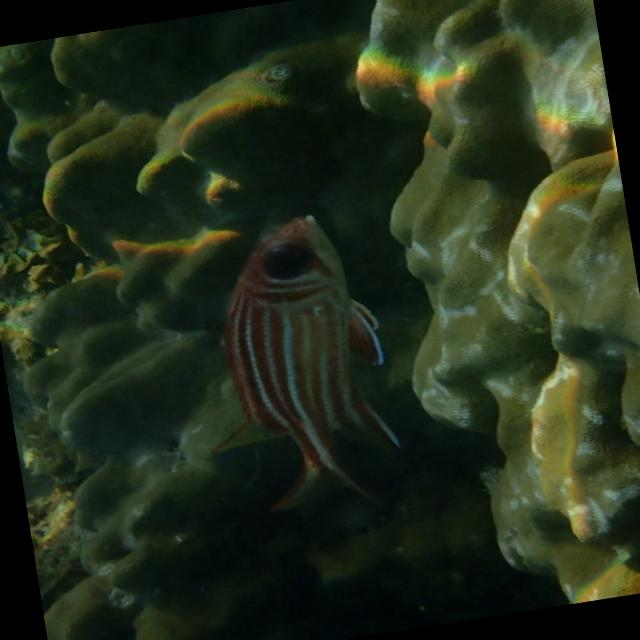Asker Baligi: (175, 203, 414, 535)
